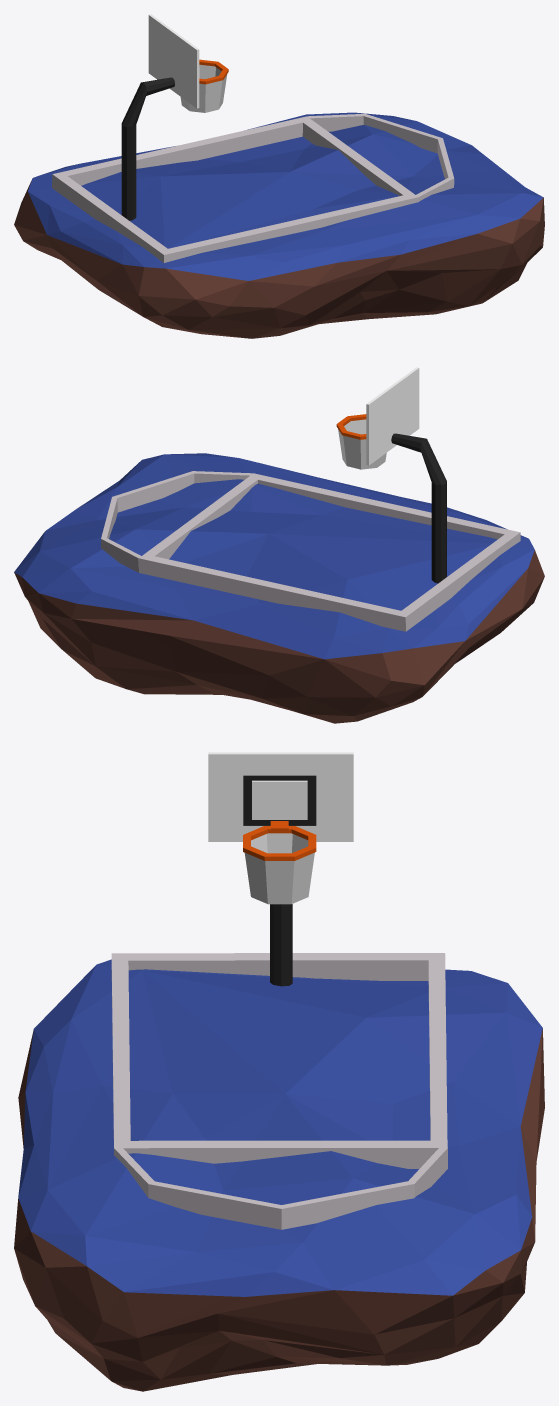
File: Space Basketball Court.fbx
3 renders of one model, top to bottom at view 1: azimuth 30°, elevation 25°; view 2: azimuth 150°, elevation 25°; view 3: azimuth 270°, elevation 25°, orthographic. The views are drawn at different scales.
Visible parts, largest first — view 1: Ground, Court, Backboard, Post, Net; view 2: Ground, Court, Backboard, Post, Net; view 3: Ground, Court, Backboard, Net, Post, Hoop.
Part boxes in pixels (x1=…): Ground: x1=14, y1=112, x2=544, y2=338; Court: x1=52, y1=113, x2=454, y2=262; Backboard: x1=148, y1=14, x2=199, y2=108; Post: x1=121, y1=77, x2=174, y2=220; Net: x1=180, y1=64, x2=227, y2=112; Ground: x1=14, y1=453, x2=544, y2=723; Court: x1=101, y1=471, x2=520, y2=631; Backboard: x1=366, y1=367, x2=419, y2=465; Post: x1=391, y1=433, x2=446, y2=583; Net: x1=338, y1=419, x2=386, y2=469; Ground: x1=14, y1=959, x2=544, y2=1391; Court: x1=111, y1=953, x2=447, y2=1229; Backboard: x1=208, y1=752, x2=353, y2=841; Net: x1=244, y1=833, x2=314, y2=904; Post: x1=270, y1=904, x2=292, y2=986; Hoop: x1=243, y1=821, x2=316, y2=860.
Size of the model in its own units: 1414 by 993 by 1039.
